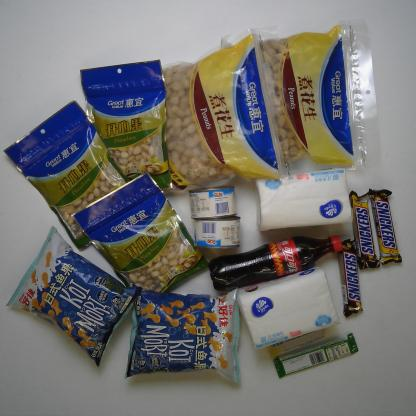Candy: (268, 324, 329, 358)
Canned Food: (191, 215, 246, 250), (187, 185, 239, 222)
Chocolate: (274, 331, 359, 380), (364, 183, 406, 266), (346, 185, 383, 272), (334, 236, 364, 319)
Dried Food: (216, 20, 379, 178), (141, 26, 278, 194)
Dried Fruit: (3, 99, 143, 252), (70, 170, 214, 303), (79, 58, 176, 193)
Drink: (208, 233, 344, 293)
Puffed Food: (3, 226, 144, 368), (124, 286, 244, 384)
Tissue: (234, 265, 341, 350), (252, 166, 353, 234)
